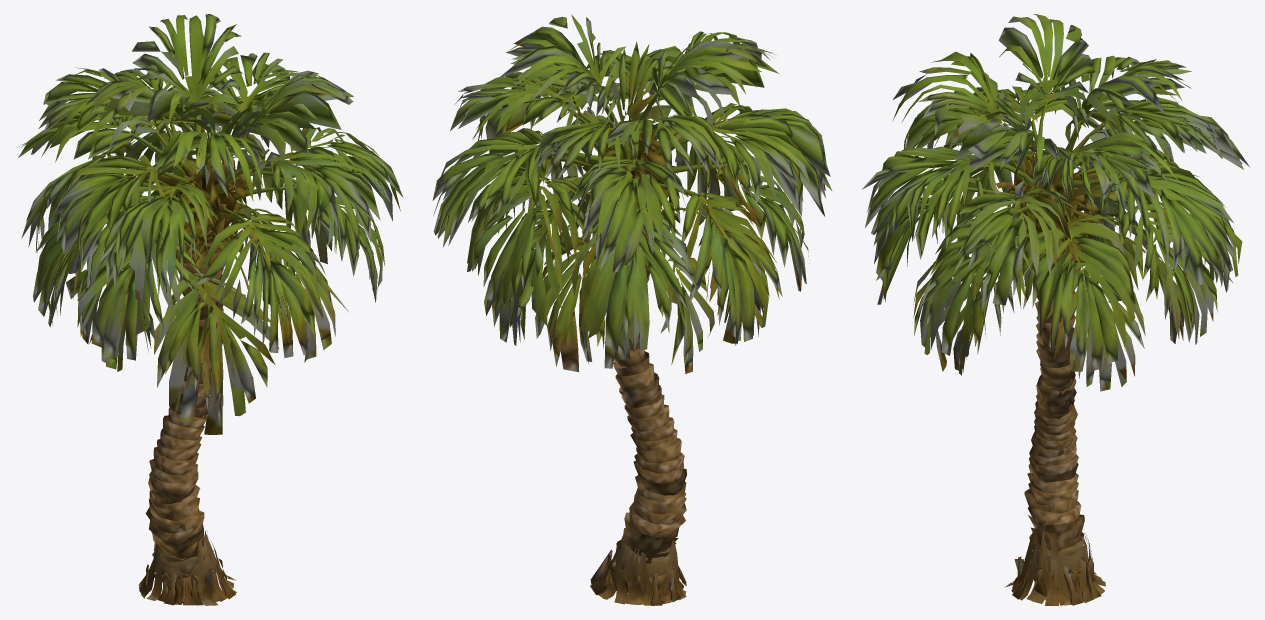
File: desert_2.glb
The picture shows the model from 3 angles, left to right: view 1: azimuth 30°, elevation 25°; view 2: azimuth 150°, elevation 25°; view 3: azimuth 270°, elevation 25°; orthographic projection. The views are drawn at different scales.
Visible parts, largest first — view 1: geometry_0; view 2: geometry_0; view 3: geometry_0.
Part boxes in pixels (<box>): geometry_0: <box>17,14,403,605</box>; geometry_0: <box>432,14,832,605</box>; geometry_0: <box>862,14,1249,605</box>.
Size of the model in its own units: 0.6138 by 0.9492 by 0.6221.
Materials: 1 (1 with a texture image).
